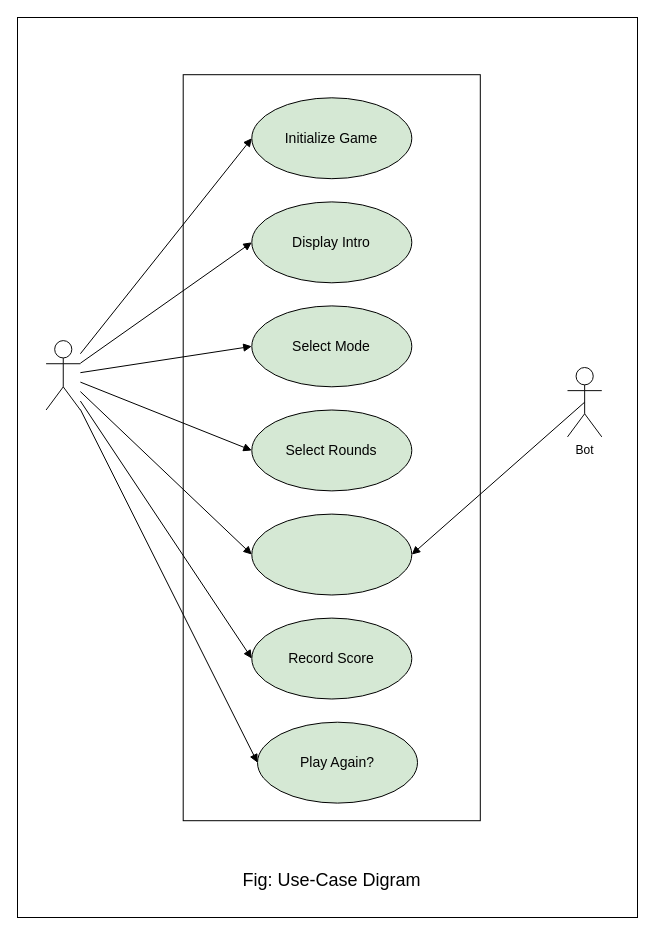
Some shapes in this 655 by 935 pixel diagram are drawn without their labels. Here are the shapes that lost their labels. From the top down, the centre of each, then its label:
pixel 62 375: User
pixel 331 554: Play Game
